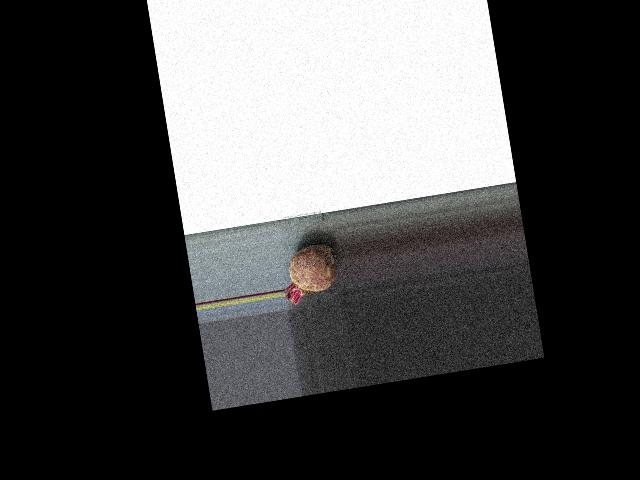beet: (277, 242, 341, 305)
